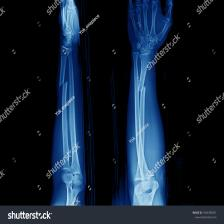closed-simple-fracture: (44, 0, 173, 207)
